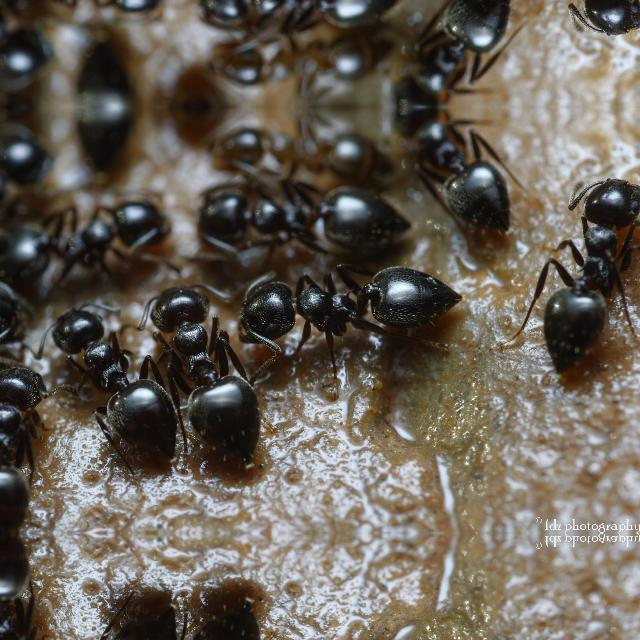Crematogaster: (34, 286, 186, 458), (534, 173, 640, 377), (153, 284, 273, 458), (234, 262, 460, 350), (188, 180, 412, 264), (0, 204, 184, 290), (369, 106, 498, 224), (208, 108, 400, 186), (208, 26, 400, 104), (369, 0, 498, 106), (0, 361, 70, 532), (0, 532, 70, 640), (188, 0, 411, 32)
